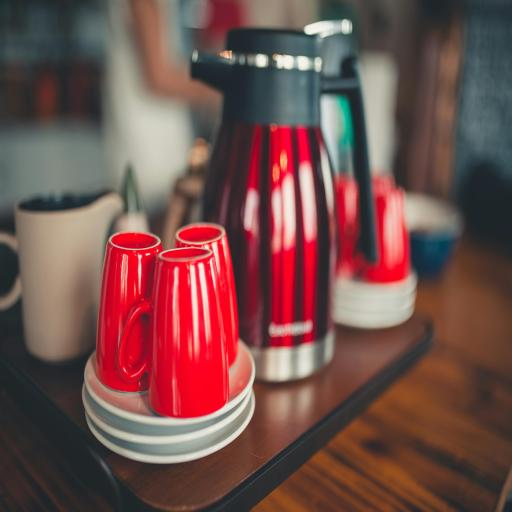phone: (118, 246, 230, 420), (97, 230, 167, 393), (174, 224, 238, 369)
